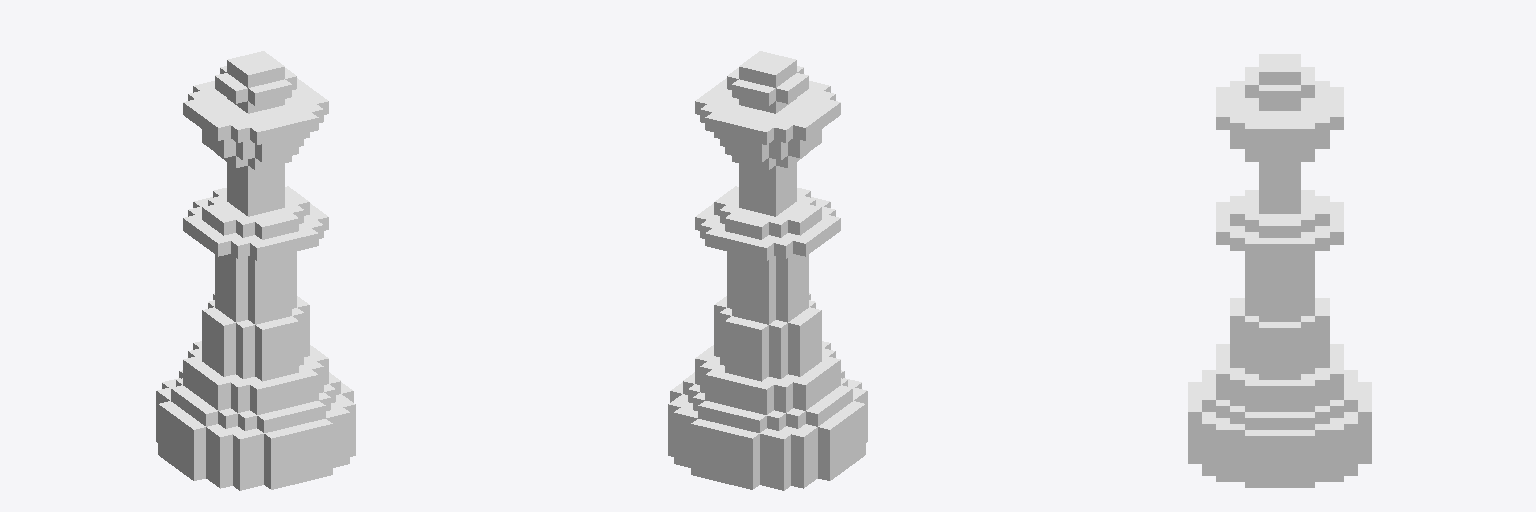
File: PlayerWhite.obj
The picture shows the model from 3 angles: view 1: azimuth 30°, elevation 25°; view 2: azimuth 150°, elevation 25°; view 3: azimuth 270°, elevation 25°; orthographic projection.
Visible parts, largest first — view 1: PlayerWhite; view 2: PlayerWhite; view 3: PlayerWhite.
Boxes of the visible parts, x1=… form: PlayerWhite: x1=156, y1=51, x2=355, y2=490; PlayerWhite: x1=668, y1=51, x2=867, y2=490; PlayerWhite: x1=1188, y1=54, x2=1371, y2=487.
Bounding box in the file's own units: 13 × 30 × 13.